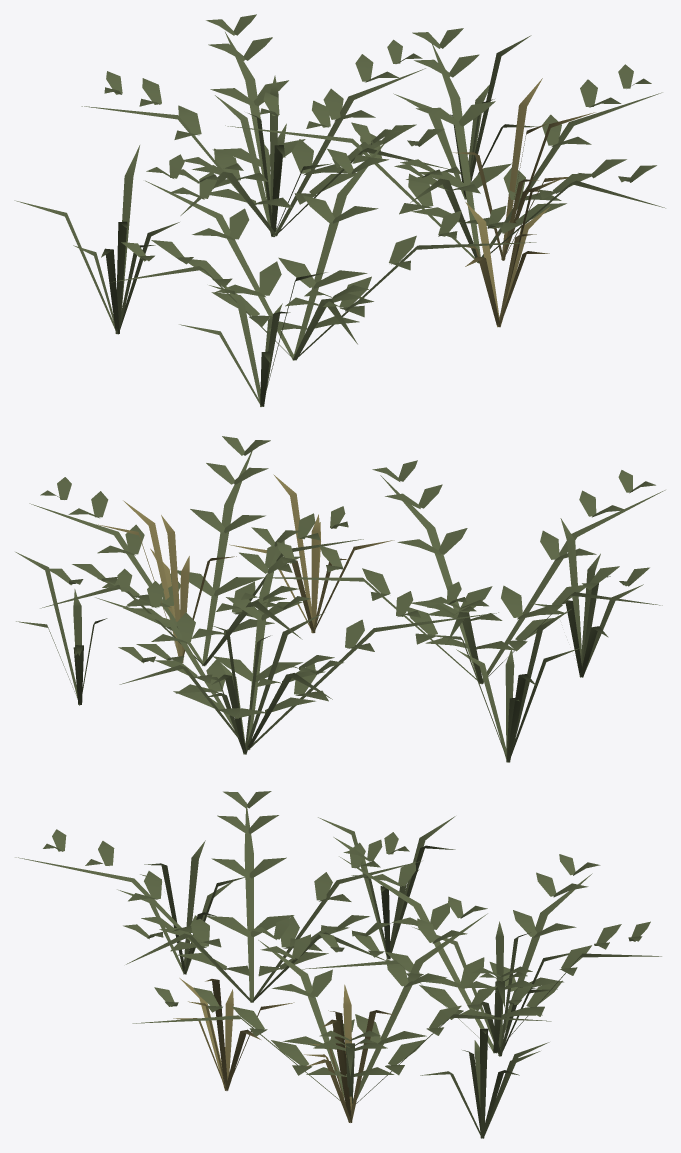
3 views of the same model, one above another, from view 1: azimuth 30°, elevation 25°; view 2: azimuth 150°, elevation 25°; view 3: azimuth 270°, elevation 25° (orthographic). The views are drawn at different scales.
Visible parts, largest first — view 1: Mesh_FernAndGreenGrass, Mesh_DryGrass; view 2: Mesh_FernAndGreenGrass, Mesh_DryGrass; view 3: Mesh_FernAndGreenGrass, Mesh_DryGrass.
Part boxes in pixels (x1,y1,x2,y2): Mesh_FernAndGreenGrass: (14,14,665,406); Mesh_DryGrass: (452,78,595,327); Mesh_FernAndGreenGrass: (15,436,665,762); Mesh_DryGrass: (98,474,394,662); Mesh_FernAndGreenGrass: (15,791,661,1138); Mesh_DryGrass: (173,978,395,1122).
Size of the model in its own units: 1.25 by 0.2986 by 1.26.
